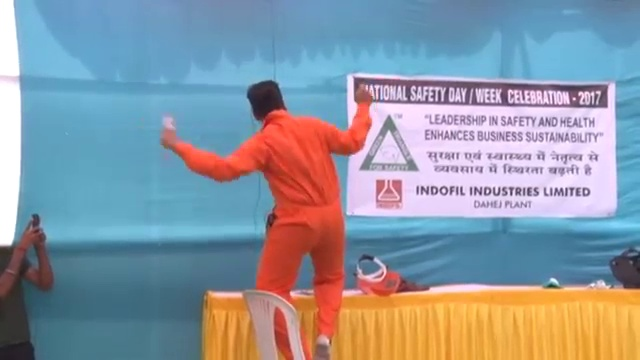helmet_off: (244, 80, 287, 118)
person: (148, 77, 377, 360), (1, 215, 62, 360)
